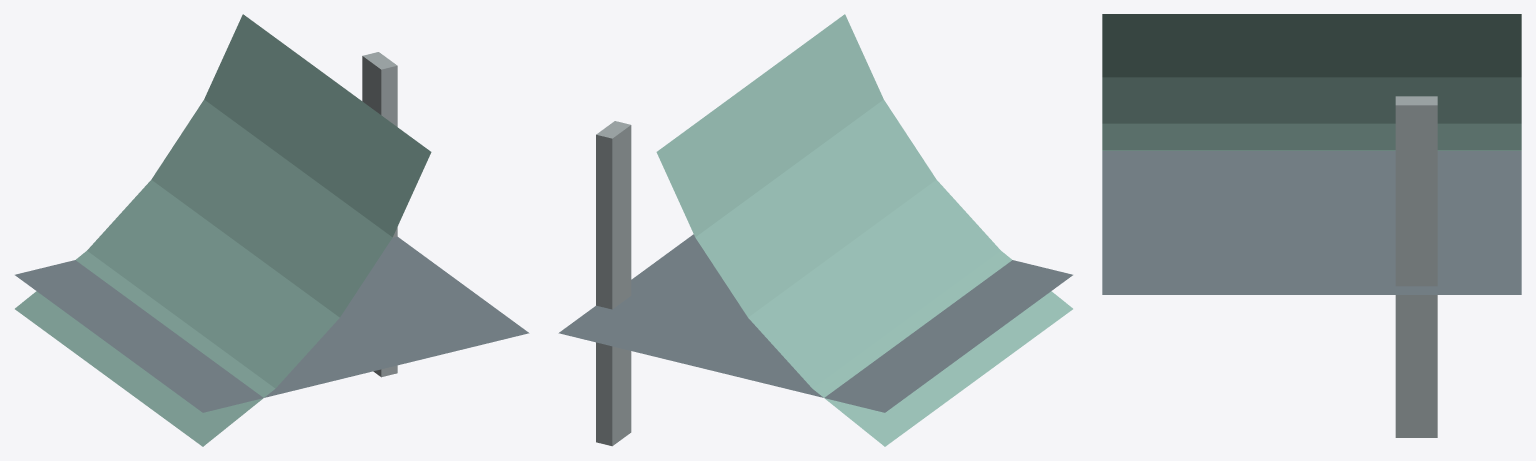
File: cell_58.obj
3 views of the same model, side by side, from view 1: azimuth 30°, elevation 25°; view 2: azimuth 150°, elevation 25°; view 3: azimuth 270°, elevation 25° (orthographic). The views are drawn at different scales.
Bounding box in the file's own units: 1 × 1 × 1.
